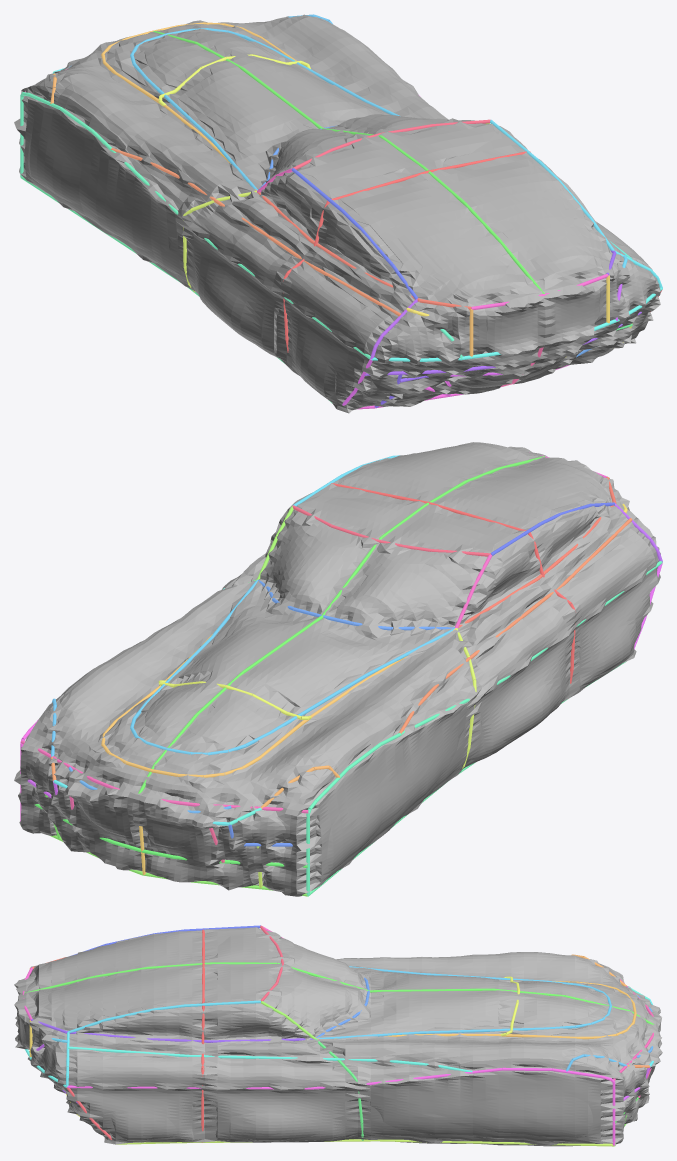
Rendered from t2f_car_93.gltf.
3 renders of one model, top to bottom at view 1: azimuth 30°, elevation 25°; view 2: azimuth 150°, elevation 25°; view 3: azimuth 270°, elevation 25°, orthographic. The views are drawn at different scales.
Bounding box in the file's own units: 0.4005 × 0.2258 × 0.9264.
